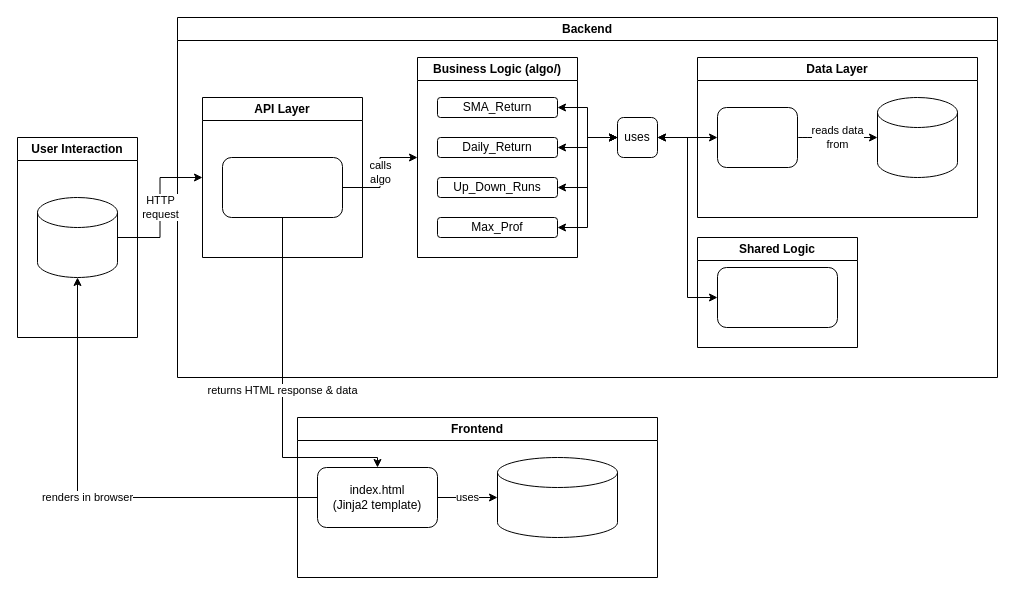
This 1015x595 diagram has some shape labels left out. Here are the shapes that lost their labels. From the top down, the centre of each, then its label:
the point at 757,137: Pandas Dataframe
the point at 917,137: TSLA.csv
the point at 282,187: main.py (FastAPI endpoint)
the point at 77,237: User's Browser
the point at 777,297: algo/validate.py (DRY principle)
the point at 557,497: Chart.js Library
